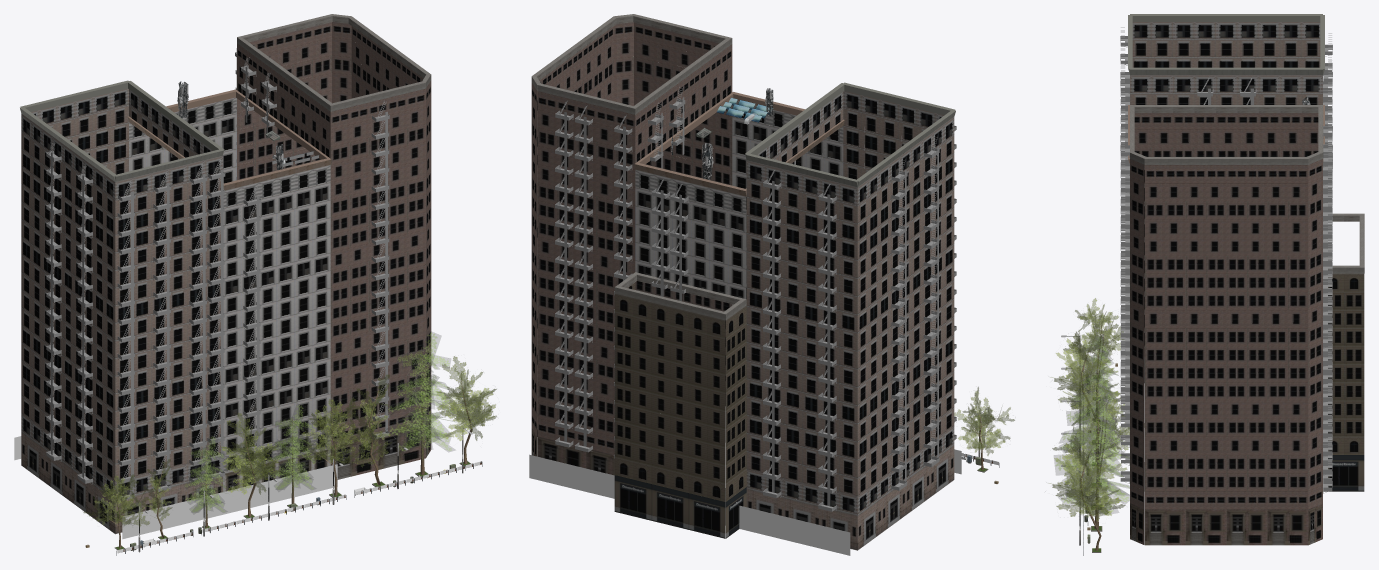
File: nycity_03.gltf
3 renders of one model, left to right at view 1: azimuth 30°, elevation 25°; view 2: azimuth 150°, elevation 25°; view 3: azimuth 270°, elevation 25°, orthographic. The views are drawn at different scales.
Visible parts, largest first — view 1: nycity_03; view 2: nycity_03; view 3: nycity_03.
Part boxes in pixels (bbox=[...]): nycity_03: bbox=[14, 14, 496, 555]; nycity_03: bbox=[529, 14, 1014, 555]; nycity_03: bbox=[1046, 14, 1364, 555].
Size of the model in its own units: 71.12 by 64.05 by 48.03.
Materials: 24 (17 with a texture image).
